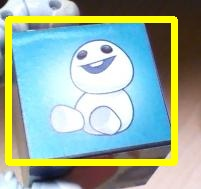Blue1: (8, 19, 174, 162)
